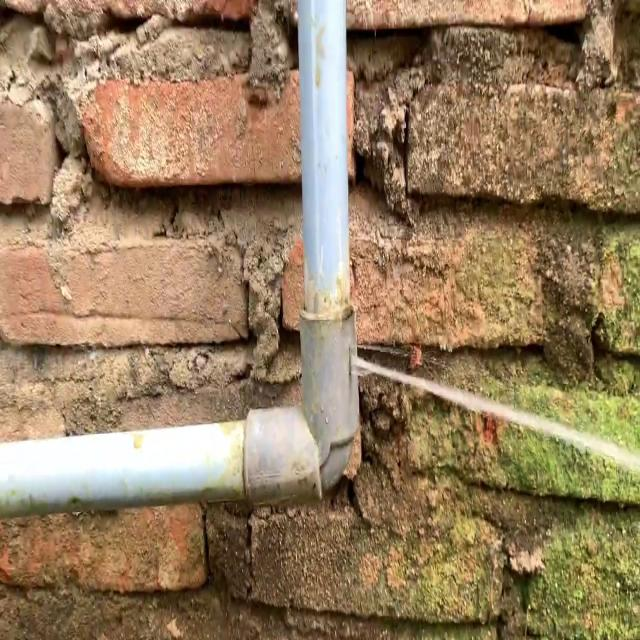leak: (349, 352, 640, 475)
